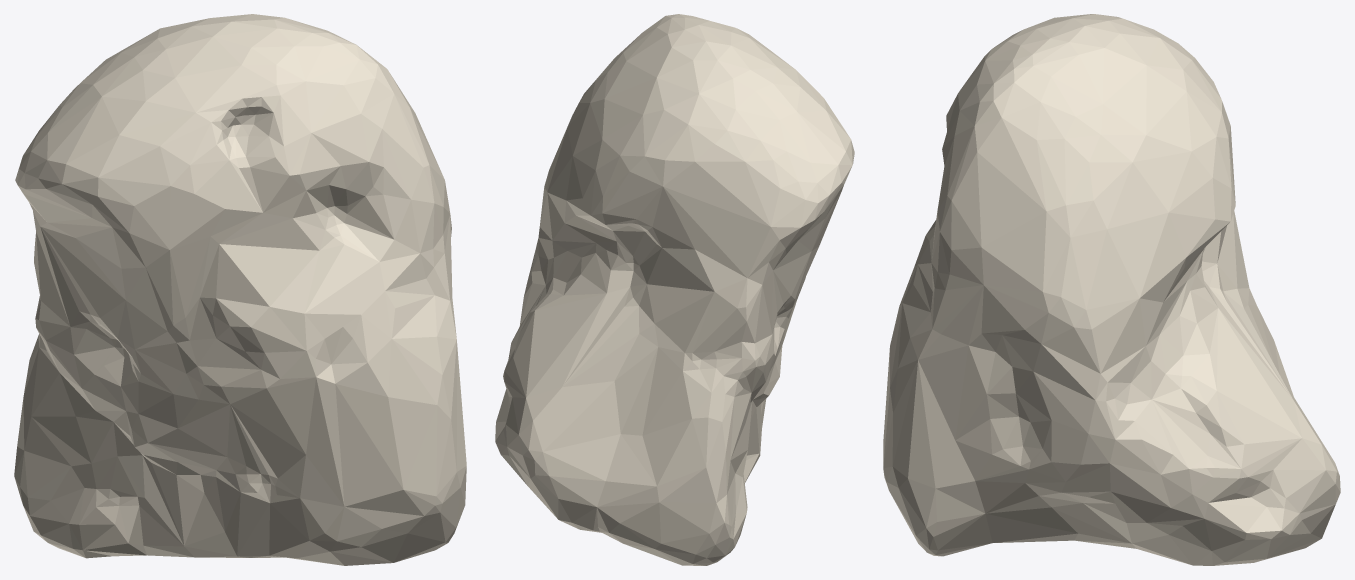
Rendered from left_capitate.glb.
The picture shows the model from 3 angles, left to right: view 1: azimuth 30°, elevation 25°; view 2: azimuth 150°, elevation 25°; view 3: azimuth 270°, elevation 25°; orthographic projection. The views are drawn at different scales.
Parts seen in each view (by area): view 1: left_capitate; view 2: left_capitate; view 3: left_capitate.
Boxes of the visible parts, left/top/right/bottom form: left_capitate: left=14, top=14, right=466, bottom=565; left_capitate: left=495, top=14, right=854, bottom=565; left_capitate: left=883, top=14, right=1340, bottom=565.
Size of the model in its own units: 0.0162 by 0.0227 by 0.0176.
